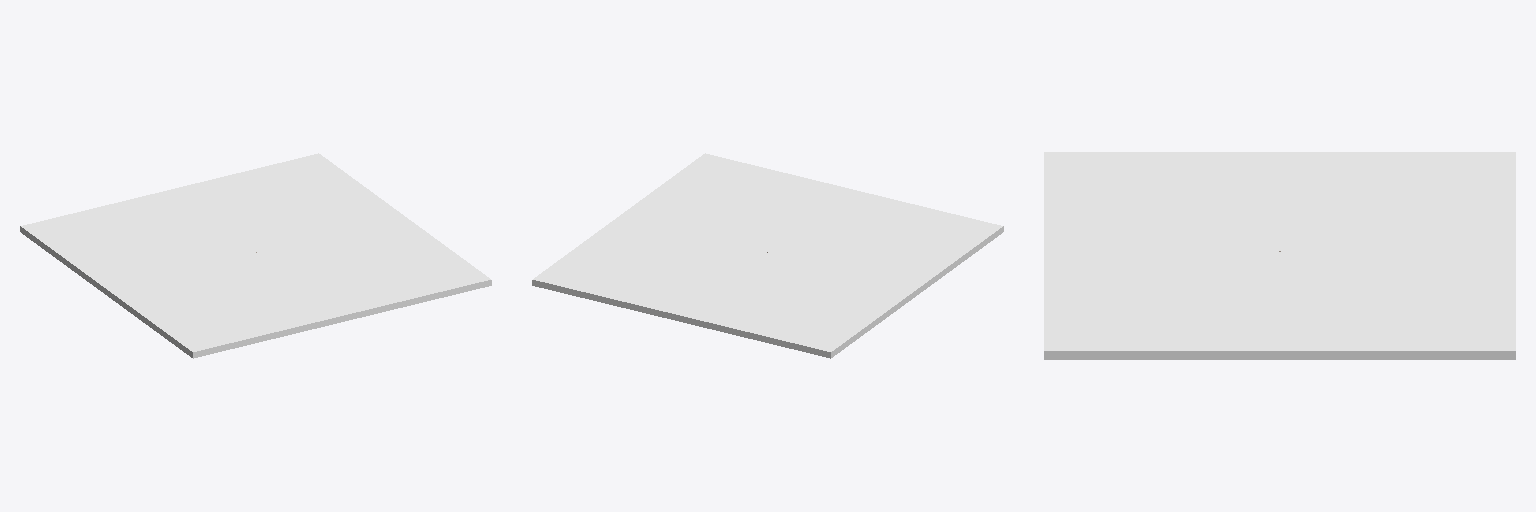
URDF robot description (idefX):
<?xml version="1.0" ?>
<robot name="idefX">
	<material name="black">
		<color rgba="0.0 0.0 0.0 1.0"/>
	</material>
	<material name="blue">
		<color rgba="0.0 0.0 0.8 1.0"/>
	</material>
	<material name="green">
		<color rgba="0.0 0.8 0.0 1.0"/>
	</material>
	<material name="grey">
		<color rgba="0.2 0.2 0.2 1.0"/>
	</material>
	<material name="silver">
		<color rgba="0.913725490196 0.913725490196 0.847058823529 1.0"/>
	</material>
	<material name="orange">
		<color rgba="1.0 0.423529411765 0.0392156862745 1.0"/>
	</material>
	<material name="brown">
		<color rgba="0.870588235294 0.811764705882 0.764705882353 1.0"/>
	</material>
	<material name="red">
		<color rgba="0.8 0.0 0.0 1.0"/>
	</material>
	<material name="white">
		<color rgba="1.0 1.0 1.0 1.0"/>
	</material>
	<link name="ground">
		<visual>
			<origin xyz="0 0 -1" rpy="0 0 0"/>
			<geometry>
				<box size="100 100 2"/>
			</geometry>
			<material name="white"/>
		</visual>
		<collision>
			<origin xyz="0 0 -1" rpy="0 0 0"/>
			<geometry>
				<box size="100 100 2"/>
			</geometry>
		</collision>
	</link>
	<link name="trunk">
		<visual>
			<origin xyz="0 0 0" rpy="0 0 0"/>
			<geometry>
				<mesh filename="../data/idefX/meshes/trunk.dae"/>
			</geometry>
			<material name="brown"/>
		</visual>
		<inertial>
			<origin xyz="0 0 0" rpy="0 0 0"/>
			<mass value="7.5"/>
			<inertia ixx="0.05" ixy="0" ixz="0" iyy="0.05" iyz="0" izz="0.05"/>
		</inertial>
	</link>
	<joint name="trunk_joint" type="floating">
		<origin rpy="0 0 0" xyz="0 0 0"/>
		<parent link="ground"/>
		<child link="trunk"/>
	</joint>
	<joint name="FL_first_motor_joint" type="fixed">
		<origin rpy="0 0 0" xyz="0.15250000000000002 0.075 0.0"/>
		<parent link="trunk"/>
		<child link="FL_first_motor"/>
	</joint>
	<link name="FL_first_motor">
		<visual>
			<origin xyz="0 0 0" rpy="0 -1.5707963267948966 3.141592653589793"/>
			<geometry>
				<mesh filename="../data/idefX/meshes/motor.dae"/>
			</geometry>
			<material name="brown"/>
		</visual>
		<inertial>
			<origin xyz="0 0 0" rpy="0 -1.5707963267948966 3.141592653589793"/>
			<mass value="0.7"/>
			<inertia ixx="0.00184" ixy="0" ixz="0" iyy="0.00184" iyz="0" izz="0.0035"/>
		</inertial>
	</link>
	<joint name="FL_clavicle_joint" type="revolute">
		<origin rpy="0 0 0" xyz="0.225 0.075 -0.0"/>
		<parent link="trunk"/>
		<child link="FL_clavicle"/>
		<axis xyz="1 0 0"/>
		<dynamics damping="0" friction="0"/>
		<limit effort="10000" velocity="100000"/>
	</joint>
	<link name="FL_clavicle">
		<visual>
			<origin xyz="0 0.0325 0" rpy="0 -1.5707963267948966 4.71238898038469"/>
			<geometry>
				<mesh filename="../data/idefX/meshes/motor.dae"/>
			</geometry>
			<material name="brown"/>
		</visual>
		<inertial>
			<origin xyz="0 0.0325 0" rpy="0 -1.5707963267948966 4.71238898038469"/>
			<mass value="0.7"/>
			<inertia ixx="0.00184" ixy="0" ixz="0" iyy="0.00184" iyz="0" izz="0.0035"/>
		</inertial>
	</link>
	<joint name="FL_arm_joint" type="revolute">
		<origin rpy="0 0 0" xyz="0 0.07 0"/>
		<parent link="FL_clavicle"/>
		<child link="FL_arm"/>
		<axis xyz="0 1 0"/>
		<dynamics damping="0" friction="0"/>
		<limit effort="10000" velocity="100000"/>
	</joint>
	<link name="FL_arm">
		<visual>
			<origin xyz="0 0 -0.098" rpy="0 0 0"/>
			<geometry>
				<mesh filename="../data/idefX/meshes/arm.dae"/>
			</geometry>
			<material name="brown"/>
		</visual>
		<inertial>
			<origin xyz="0 0 -0.098" rpy="0 0 0"/>
			<mass value="0.2"/>
			<inertia ixx="0.0002" ixy="0" ixz="0" iyy="0.0002" iyz="0" izz="8e-05"/>
		</inertial>
	</link>
	<joint name="FL_third_motor_joint" type="fixed">
		<origin rpy="0 0 0" xyz="0.0 0.037500000000000006 0.0"/>
		<parent link="FL_arm"/>
		<child link="FL_third_motor"/>
	</joint>
	<link name="FL_third_motor">
		<visual>
			<origin xyz="0 0 0" rpy="0 -1.5707963267948966 1.5707963267948966"/>
			<geometry>
				<mesh filename="../data/idefX/meshes/motor.dae"/>
			</geometry>
			<material name="brown"/>
		</visual>
		<inertial>
			<origin xyz="0 0 0" rpy="0 -1.5707963267948966 1.5707963267948966"/>
			<mass value="0.7"/>
			<inertia ixx="0.00184" ixy="0" ixz="0" iyy="0.00184" iyz="0" izz="0.0035"/>
		</inertial>
	</link>
	<joint name="FL_forearm_joint" type="revolute">
		<origin rpy="0 0 0" xyz="0 0.0 -0.196"/>
		<parent link="FL_arm"/>
		<child link="FL_forearm"/>
		<axis xyz="0 1 0"/>
		<dynamics damping="0" friction="0"/>
		<limit effort="10000" velocity="100000"/>
	</joint>
	<link name="FL_forearm">
		<visual>
			<origin xyz="0 0 -0.1" rpy="0 0 0"/>
			<geometry>
				<mesh filename="../data/idefX/meshes/forearm.dae"/>
			</geometry>
			<material name="brown"/>
		</visual>
		<inertial>
			<origin xyz="0 0 -0.1" rpy="0 0 0"/>
			<mass value="0.1"/>
			<inertia ixx="0.0001" ixy="0" ixz="0" iyy="0.0001" iyz="0" izz="4e-05"/>
		</inertial>
	</link>
	<joint name="FL_foot_joint" type="fixed">
		<origin rpy="0 0 0" xyz="0 0 -0.2"/>
		<parent link="FL_forearm"/>
		<child link="FL_foot"/>
	</joint>
	<link name="FL_foot">
		<visual>
			<origin xyz="0 0 0" rpy="0 0 0"/>
			<geometry>
				<mesh filename="../data/idefX/meshes/foot.dae"/>
			</geometry>
			<material name="brown"/>
		</visual>
		<collision>
			<origin xyz="0 0 0" rpy="0 0 0"/>
			<geometry>
				<sphere radius="0.02"/>
			</geometry>
		</collision>
		<inertial>
			<origin xyz="0 0 0" rpy="0 0 0"/>
			<mass value="0.01"/>
			<inertia ixx="6e-06" ixy="0" ixz="0" iyy="6e-06" iyz="0" izz="6e-06"/>
		</inertial>
	</link>
	<joint name="FR_first_motor_joint" type="fixed">
		<origin rpy="0 0 0" xyz="0.15250000000000002 -0.075 0.0"/>
		<parent link="trunk"/>
		<child link="FR_first_motor"/>
	</joint>
	<link name="FR_first_motor">
		<visual>
			<origin xyz="0 0 0" rpy="0 -1.5707963267948966 3.141592653589793"/>
			<geometry>
				<mesh filename="../data/idefX/meshes/motor.dae"/>
			</geometry>
			<material name="brown"/>
		</visual>
		<inertial>
			<origin xyz="0 0 0" rpy="0 -1.5707963267948966 3.141592653589793"/>
			<mass value="0.7"/>
			<inertia ixx="0.00184" ixy="0" ixz="0" iyy="0.00184" iyz="0" izz="0.0035"/>
		</inertial>
	</link>
	<joint name="FR_clavicle_joint" type="revolute">
		<origin rpy="0 0 0" xyz="0.225 -0.075 -0.0"/>
		<parent link="trunk"/>
		<child link="FR_clavicle"/>
		<axis xyz="1 0 0"/>
		<dynamics damping="0" friction="0"/>
		<limit effort="10000" velocity="100000"/>
	</joint>
	<link name="FR_clavicle">
		<visual>
			<origin xyz="0 -0.0325 0" rpy="0 -1.5707963267948966 1.5707963267948966"/>
			<geometry>
				<mesh filename="../data/idefX/meshes/motor.dae"/>
			</geometry>
			<material name="brown"/>
		</visual>
		<inertial>
			<origin xyz="0 -0.0325 0" rpy="0 -1.5707963267948966 1.5707963267948966"/>
			<mass value="0.7"/>
			<inertia ixx="0.00184" ixy="0" ixz="0" iyy="0.00184" iyz="0" izz="0.0035"/>
		</inertial>
	</link>
	<joint name="FR_arm_joint" type="revolute">
		<origin rpy="0 0 0" xyz="0 -0.07 0"/>
		<parent link="FR_clavicle"/>
		<child link="FR_arm"/>
		<axis xyz="0 1 0"/>
		<dynamics damping="0" friction="0"/>
		<limit effort="10000" velocity="100000"/>
	</joint>
	<link name="FR_arm">
		<visual>
			<origin xyz="0 0 -0.098" rpy="0 0 0"/>
			<geometry>
				<mesh filename="../data/idefX/meshes/arm.dae"/>
			</geometry>
			<material name="brown"/>
		</visual>
		<inertial>
			<origin xyz="0 0 -0.098" rpy="0 0 0"/>
			<mass value="0.2"/>
			<inertia ixx="0.0002" ixy="0" ixz="0" iyy="0.0002" iyz="0" izz="8e-05"/>
		</inertial>
	</link>
	<joint name="FR_third_motor_joint" type="fixed">
		<origin rpy="0 0 0" xyz="0.0 -0.037500000000000006 0.0"/>
		<parent link="FR_arm"/>
		<child link="FR_third_motor"/>
	</joint>
	<link name="FR_third_motor">
		<visual>
			<origin xyz="0 0 0" rpy="0 -1.5707963267948966 -1.5707963267948966"/>
			<geometry>
				<mesh filename="../data/idefX/meshes/motor.dae"/>
			</geometry>
			<material name="brown"/>
		</visual>
		<inertial>
			<origin xyz="0 0 0" rpy="0 -1.5707963267948966 -1.5707963267948966"/>
			<mass value="0.7"/>
			<inertia ixx="0.00184" ixy="0" ixz="0" iyy="0.00184" iyz="0" izz="0.0035"/>
		</inertial>
	</link>
	<joint name="FR_forearm_joint" type="revolute">
		<origin rpy="0 0 0" xyz="0 -0.0 -0.196"/>
		<parent link="FR_arm"/>
		<child link="FR_forearm"/>
		<axis xyz="0 1 0"/>
		<dynamics damping="0" friction="0"/>
		<limit effort="10000" velocity="100000"/>
	</joint>
	<link name="FR_forearm">
		<visual>
			<origin xyz="0 0 -0.1" rpy="0 0 0"/>
			<geometry>
				<mesh filename="../data/idefX/meshes/forearm.dae"/>
			</geometry>
			<material name="brown"/>
		</visual>
		<inertial>
			<origin xyz="0 0 -0.1" rpy="0 0 0"/>
			<mass value="0.1"/>
			<inertia ixx="0.0001" ixy="0" ixz="0" iyy="0.0001" iyz="0" izz="4e-05"/>
		</inertial>
	</link>
	<joint name="FR_foot_joint" type="fixed">
		<origin rpy="0 0 0" xyz="0 0 -0.2"/>
		<parent link="FR_forearm"/>
		<child link="FR_foot"/>
	</joint>
	<link name="FR_foot">
		<visual>
			<origin xyz="0 0 0" rpy="0 0 0"/>
			<geometry>
				<mesh filename="../data/idefX/meshes/foot.dae"/>
			</geometry>
			<material name="brown"/>
		</visual>
		<collision>
			<origin xyz="0 0 0" rpy="0 0 0"/>
			<geometry>
				<sphere radius="0.02"/>
			</geometry>
		</collision>
		<inertial>
			<origin xyz="0 0 0" rpy="0 0 0"/>
			<mass value="0.01"/>
			<inertia ixx="6e-06" ixy="0" ixz="0" iyy="6e-06" iyz="0" izz="6e-06"/>
		</inertial>
	</link>
	<joint name="BL_first_motor_joint" type="fixed">
		<origin rpy="0 0 0" xyz="-0.15250000000000002 0.075 0.0"/>
		<parent link="trunk"/>
		<child link="BL_first_motor"/>
	</joint>
	<link name="BL_first_motor">
		<visual>
			<origin xyz="0 0 0" rpy="0 -1.5707963267948966 0.0"/>
			<geometry>
				<mesh filename="../data/idefX/meshes/motor.dae"/>
			</geometry>
			<material name="brown"/>
		</visual>
		<inertial>
			<origin xyz="0 0 0" rpy="0 -1.5707963267948966 0.0"/>
			<mass value="0.7"/>
			<inertia ixx="0.00184" ixy="0" ixz="0" iyy="0.00184" iyz="0" izz="0.0035"/>
		</inertial>
	</link>
	<joint name="BL_clavicle_joint" type="revolute">
		<origin rpy="0 0 0" xyz="-0.225 0.075 -0.0"/>
		<parent link="trunk"/>
		<child link="BL_clavicle"/>
		<axis xyz="1 0 0"/>
		<dynamics damping="0" friction="0"/>
		<limit effort="10000" velocity="100000"/>
	</joint>
	<link name="BL_clavicle">
		<visual>
			<origin xyz="0 0.0325 0" rpy="0 -1.5707963267948966 4.71238898038469"/>
			<geometry>
				<mesh filename="../data/idefX/meshes/motor.dae"/>
			</geometry>
			<material name="brown"/>
		</visual>
		<inertial>
			<origin xyz="0 0.0325 0" rpy="0 -1.5707963267948966 4.71238898038469"/>
			<mass value="0.7"/>
			<inertia ixx="0.00184" ixy="0" ixz="0" iyy="0.00184" iyz="0" izz="0.0035"/>
		</inertial>
	</link>
	<joint name="BL_arm_joint" type="revolute">
		<origin rpy="0 0 0" xyz="0 0.07 0"/>
		<parent link="BL_clavicle"/>
		<child link="BL_arm"/>
		<axis xyz="0 1 0"/>
		<dynamics damping="0" friction="0"/>
		<limit effort="10000" velocity="100000"/>
	</joint>
	<link name="BL_arm">
		<visual>
			<origin xyz="0 0 -0.098" rpy="0 0 0"/>
			<geometry>
				<mesh filename="../data/idefX/meshes/arm.dae"/>
			</geometry>
			<material name="brown"/>
		</visual>
		<inertial>
			<origin xyz="0 0 -0.098" rpy="0 0 0"/>
			<mass value="0.2"/>
			<inertia ixx="0.0002" ixy="0" ixz="0" iyy="0.0002" iyz="0" izz="8e-05"/>
		</inertial>
	</link>
	<joint name="BL_third_motor_joint" type="fixed">
		<origin rpy="0 0 0" xyz="0.0 0.037500000000000006 0.0"/>
		<parent link="BL_arm"/>
		<child link="BL_third_motor"/>
	</joint>
	<link name="BL_third_motor">
		<visual>
			<origin xyz="0 0 0" rpy="0 -1.5707963267948966 1.5707963267948966"/>
			<geometry>
				<mesh filename="../data/idefX/meshes/motor.dae"/>
			</geometry>
			<material name="brown"/>
		</visual>
		<inertial>
			<origin xyz="0 0 0" rpy="0 -1.5707963267948966 1.5707963267948966"/>
			<mass value="0.7"/>
			<inertia ixx="0.00184" ixy="0" ixz="0" iyy="0.00184" iyz="0" izz="0.0035"/>
		</inertial>
	</link>
	<joint name="BL_forearm_joint" type="revolute">
		<origin rpy="0 0 0" xyz="0 0.0 -0.196"/>
		<parent link="BL_arm"/>
		<child link="BL_forearm"/>
		<axis xyz="0 1 0"/>
		<dynamics damping="0" friction="0"/>
		<limit effort="10000" velocity="100000"/>
	</joint>
	<link name="BL_forearm">
		<visual>
			<origin xyz="0 0 -0.1" rpy="0 0 0"/>
			<geometry>
				<mesh filename="../data/idefX/meshes/forearm.dae"/>
			</geometry>
			<material name="brown"/>
		</visual>
		<inertial>
			<origin xyz="0 0 -0.1" rpy="0 0 0"/>
			<mass value="0.1"/>
			<inertia ixx="0.0001" ixy="0" ixz="0" iyy="0.0001" iyz="0" izz="4e-05"/>
		</inertial>
	</link>
	<joint name="BL_foot_joint" type="fixed">
		<origin rpy="0 0 0" xyz="0 0 -0.2"/>
		<parent link="BL_forearm"/>
		<child link="BL_foot"/>
	</joint>
	<link name="BL_foot">
		<visual>
			<origin xyz="0 0 0" rpy="0 0 0"/>
			<geometry>
				<mesh filename="../data/idefX/meshes/foot.dae"/>
			</geometry>
			<material name="brown"/>
		</visual>
		<collision>
			<origin xyz="0 0 0" rpy="0 0 0"/>
			<geometry>
				<sphere radius="0.02"/>
			</geometry>
		</collision>
		<inertial>
			<origin xyz="0 0 0" rpy="0 0 0"/>
			<mass value="0.01"/>
			<inertia ixx="6e-06" ixy="0" ixz="0" iyy="6e-06" iyz="0" izz="6e-06"/>
		</inertial>
	</link>
	<joint name="BR_first_motor_joint" type="fixed">
		<origin rpy="0 0 0" xyz="-0.15250000000000002 -0.075 0.0"/>
		<parent link="trunk"/>
		<child link="BR_first_motor"/>
	</joint>
	<link name="BR_first_motor">
		<visual>
			<origin xyz="0 0 0" rpy="0 -1.5707963267948966 0.0"/>
			<geometry>
				<mesh filename="../data/idefX/meshes/motor.dae"/>
			</geometry>
			<material name="brown"/>
		</visual>
		<inertial>
			<origin xyz="0 0 0" rpy="0 -1.5707963267948966 0.0"/>
			<mass value="0.7"/>
			<inertia ixx="0.00184" ixy="0" ixz="0" iyy="0.00184" iyz="0" izz="0.0035"/>
		</inertial>
	</link>
	<joint name="BR_clavicle_joint" type="revolute">
		<origin rpy="0 0 0" xyz="-0.225 -0.075 -0.0"/>
		<parent link="trunk"/>
		<child link="BR_clavicle"/>
		<axis xyz="1 0 0"/>
		<dynamics damping="0" friction="0"/>
		<limit effort="10000" velocity="100000"/>
	</joint>
	<link name="BR_clavicle">
		<visual>
			<origin xyz="0 -0.0325 0" rpy="0 -1.5707963267948966 1.5707963267948966"/>
			<geometry>
				<mesh filename="../data/idefX/meshes/motor.dae"/>
			</geometry>
			<material name="brown"/>
		</visual>
		<inertial>
			<origin xyz="0 -0.0325 0" rpy="0 -1.5707963267948966 1.5707963267948966"/>
			<mass value="0.7"/>
			<inertia ixx="0.00184" ixy="0" ixz="0" iyy="0.00184" iyz="0" izz="0.0035"/>
		</inertial>
	</link>
	<joint name="BR_arm_joint" type="revolute">
		<origin rpy="0 0 0" xyz="0 -0.07 0"/>
		<parent link="BR_clavicle"/>
		<child link="BR_arm"/>
		<axis xyz="0 1 0"/>
		<dynamics damping="0" friction="0"/>
		<limit effort="10000" velocity="100000"/>
	</joint>
	<link name="BR_arm">
		<visual>
			<origin xyz="0 0 -0.098" rpy="0 0 0"/>
			<geometry>
				<mesh filename="../data/idefX/meshes/arm.dae"/>
			</geometry>
			<material name="brown"/>
		</visual>
		<inertial>
			<origin xyz="0 0 -0.098" rpy="0 0 0"/>
			<mass value="0.2"/>
			<inertia ixx="0.0002" ixy="0" ixz="0" iyy="0.0002" iyz="0" izz="8e-05"/>
		</inertial>
	</link>
	<joint name="BR_third_motor_joint" type="fixed">
		<origin rpy="0 0 0" xyz="0.0 -0.037500000000000006 0.0"/>
		<parent link="BR_arm"/>
		<child link="BR_third_motor"/>
	</joint>
	<link name="BR_third_motor">
		<visual>
			<origin xyz="0 0 0" rpy="0 -1.5707963267948966 -1.5707963267948966"/>
			<geometry>
				<mesh filename="../data/idefX/meshes/motor.dae"/>
			</geometry>
			<material name="brown"/>
		</visual>
		<inertial>
			<origin xyz="0 0 0" rpy="0 -1.5707963267948966 -1.5707963267948966"/>
			<mass value="0.7"/>
			<inertia ixx="0.00184" ixy="0" ixz="0" iyy="0.00184" iyz="0" izz="0.0035"/>
		</inertial>
	</link>
	<joint name="BR_forearm_joint" type="revolute">
		<origin rpy="0 0 0" xyz="0 -0.0 -0.196"/>
		<parent link="BR_arm"/>
		<child link="BR_forearm"/>
		<axis xyz="0 1 0"/>
		<dynamics damping="0" friction="0"/>
		<limit effort="10000" velocity="100000"/>
	</joint>
	<link name="BR_forearm">
		<visual>
			<origin xyz="0 0 -0.1" rpy="0 0 0"/>
			<geometry>
				<mesh filename="../data/idefX/meshes/forearm.dae"/>
			</geometry>
			<material name="brown"/>
		</visual>
		<inertial>
			<origin xyz="0 0 -0.1" rpy="0 0 0"/>
			<mass value="0.1"/>
			<inertia ixx="0.0001" ixy="0" ixz="0" iyy="0.0001" iyz="0" izz="4e-05"/>
		</inertial>
	</link>
	<joint name="BR_foot_joint" type="fixed">
		<origin rpy="0 0 0" xyz="0 0 -0.2"/>
		<parent link="BR_forearm"/>
		<child link="BR_foot"/>
	</joint>
	<link name="BR_foot">
		<visual>
			<origin xyz="0 0 0" rpy="0 0 0"/>
			<geometry>
				<mesh filename="../data/idefX/meshes/foot.dae"/>
			</geometry>
			<material name="brown"/>
		</visual>
		<collision>
			<origin xyz="0 0 0" rpy="0 0 0"/>
			<geometry>
				<sphere radius="0.02"/>
			</geometry>
		</collision>
		<inertial>
			<origin xyz="0 0 0" rpy="0 0 0"/>
			<mass value="0.01"/>
			<inertia ixx="6e-06" ixy="0" ixz="0" iyy="6e-06" iyz="0" izz="6e-06"/>
		</inertial>
	</link>
</robot>

--- Facts derived from the render (not from the file) ---
The picture shows the robot from 3 angles, left to right: view 1: azimuth 30°, elevation 25°; view 2: azimuth 150°, elevation 25°; view 3: azimuth 270°, elevation 25°; orthographic projection.
Model idefX with 26 links and 25 joints (12 revolute, 12 fixed, 1 floating), rooted at ground, posed every joint at zero.
Links seen in each view (by area): view 1: ground; view 2: ground; view 3: ground.
Boxes of the visible links, <box> form: ground: <box>20,153,491,358</box>; ground: <box>532,153,1003,358</box>; ground: <box>1044,152,1515,359</box>.
Bounding box of the posed robot: 100 × 100 × 2.12 m (x, y, z).
Meshes: 5 distinct files referenced, 25 mesh visuals loaded (5 Collada DAE).
